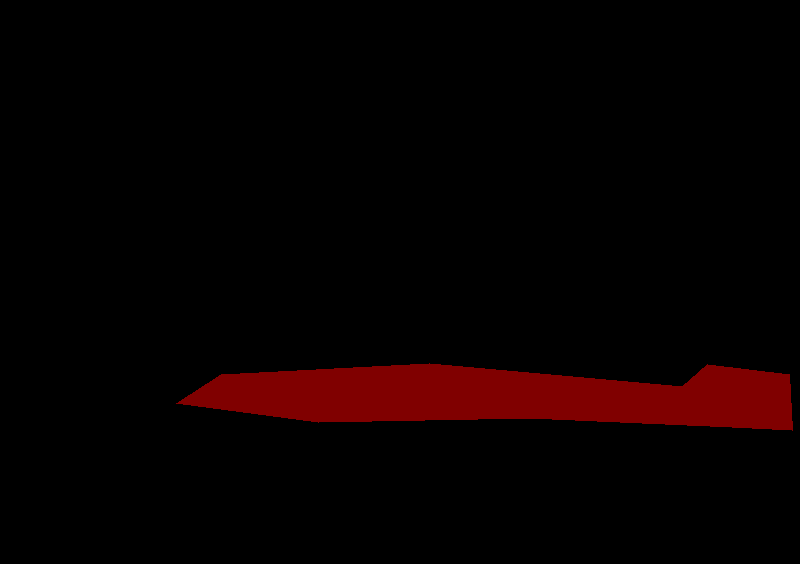fire: (176, 363, 792, 430)
